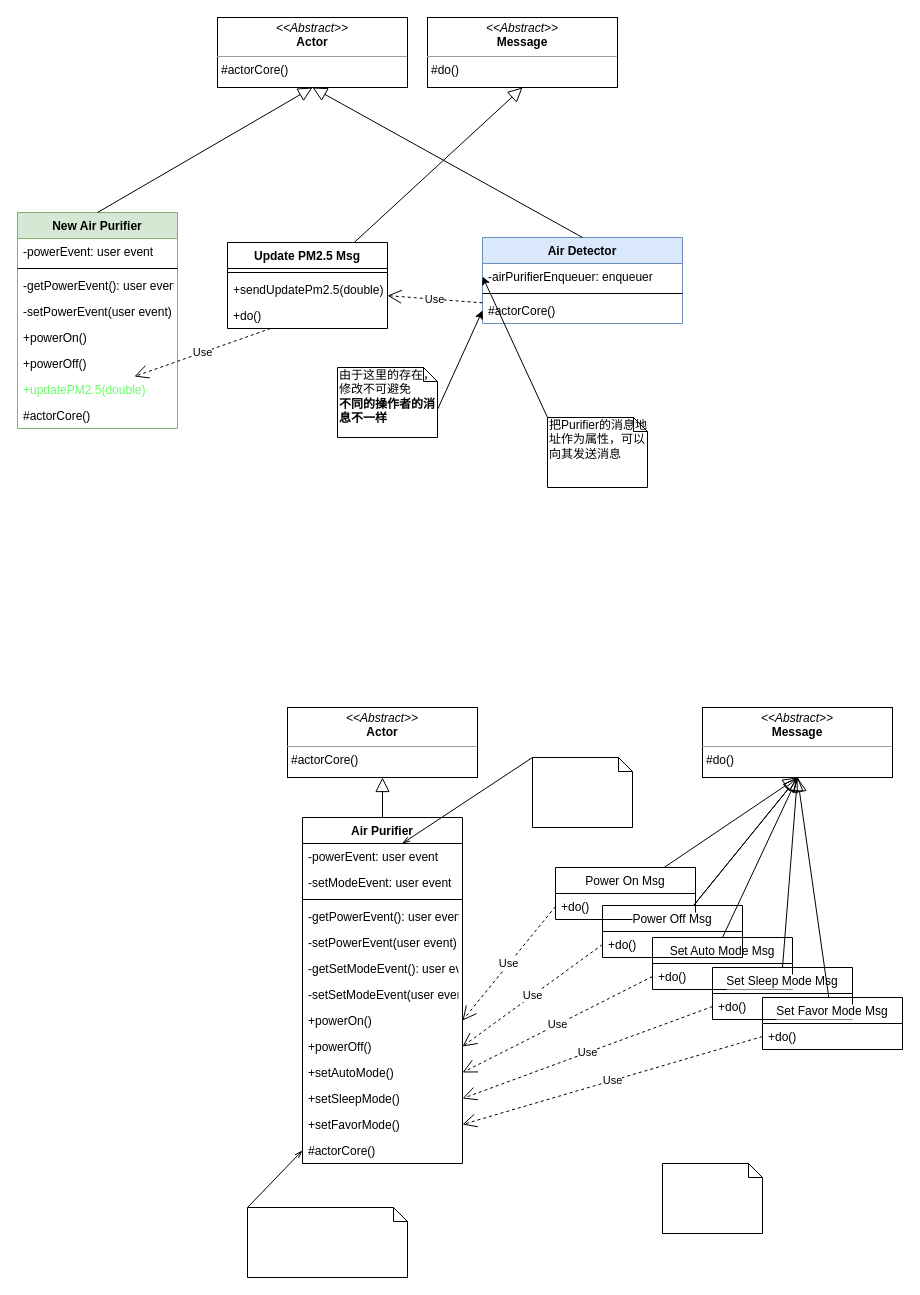
Some shapes in this 920 by 1295 pixel diagram are drawn without their labels. The centre of each missing label's shape, as x and y in pixels:
"为了将正确的消息从Air Purifier的类的方法中传递给操作者核心方法" goes at point 582,792.
"发送具体的消息给操作者对象" goes at point 712,1198.
"重写actorCore的目的是仿真空气净化器的显示面板" goes at point 327,1242.
